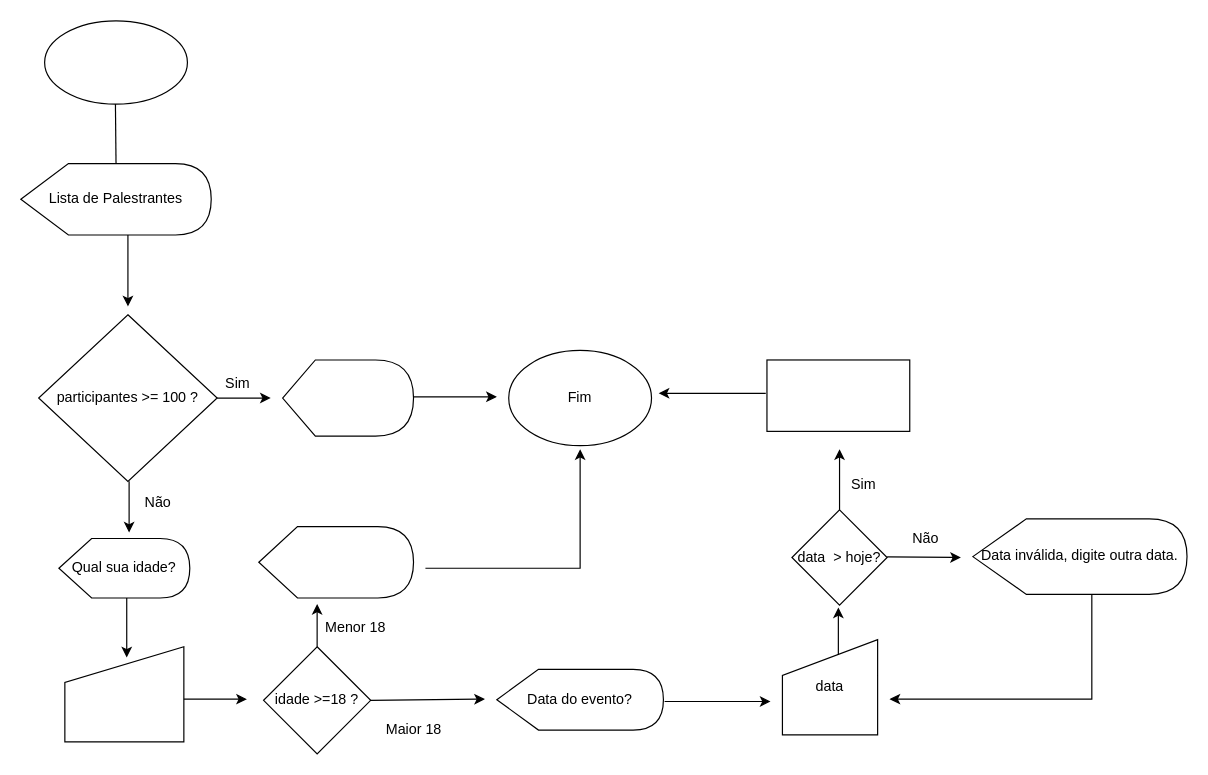
Some shapes in this 1208 by 775 pixel diagram are drawn without their labels. Each missing label, with the centre of its shape:
Cadastro no evento: [838,395]
Evento lotado: [347,397]
Evento permitido somente para maiores de 18 anos: [336,561]
idade: [124,694]
inicio: [115,62]
